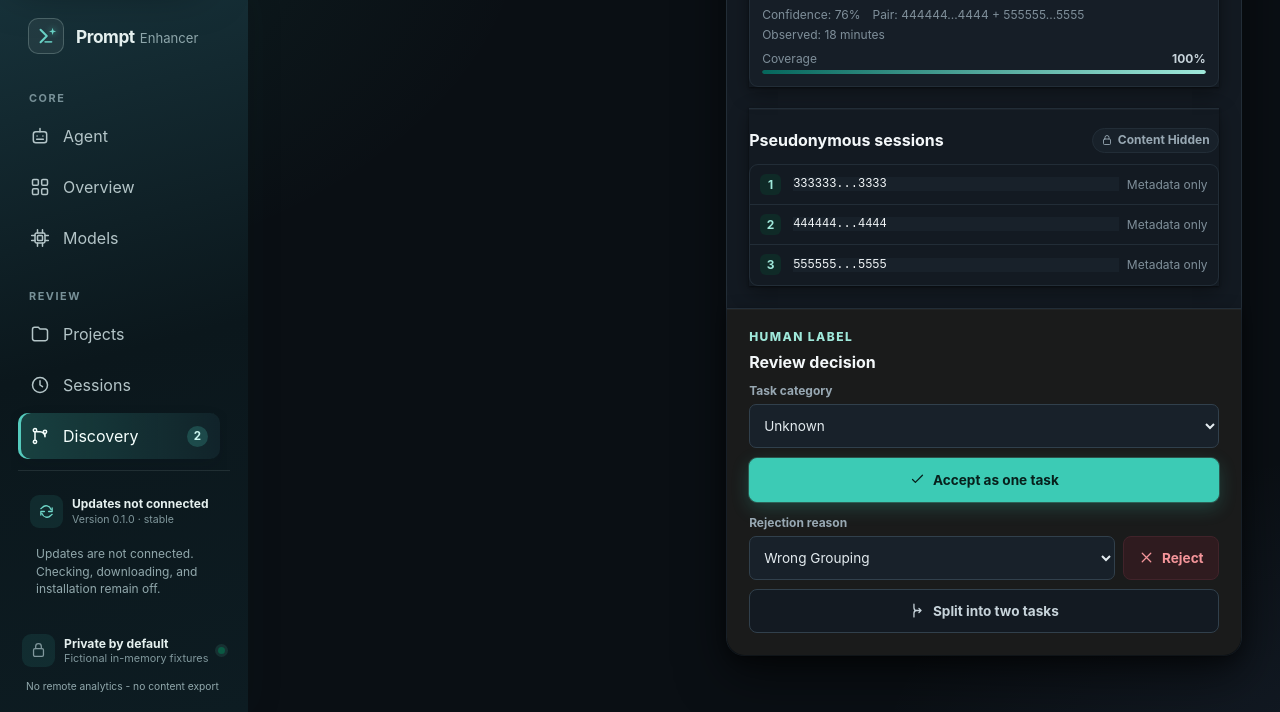
it: App discovery navigation › keeps the sidebar review count synchronized after a decision
(page scrolled)
Expected: the text named "2 candidates need review" is shown, [187, 425, 208, 446]
Click the button "Accept as one task": (984, 480) [749, 458, 1219, 502]
(page scrolled)
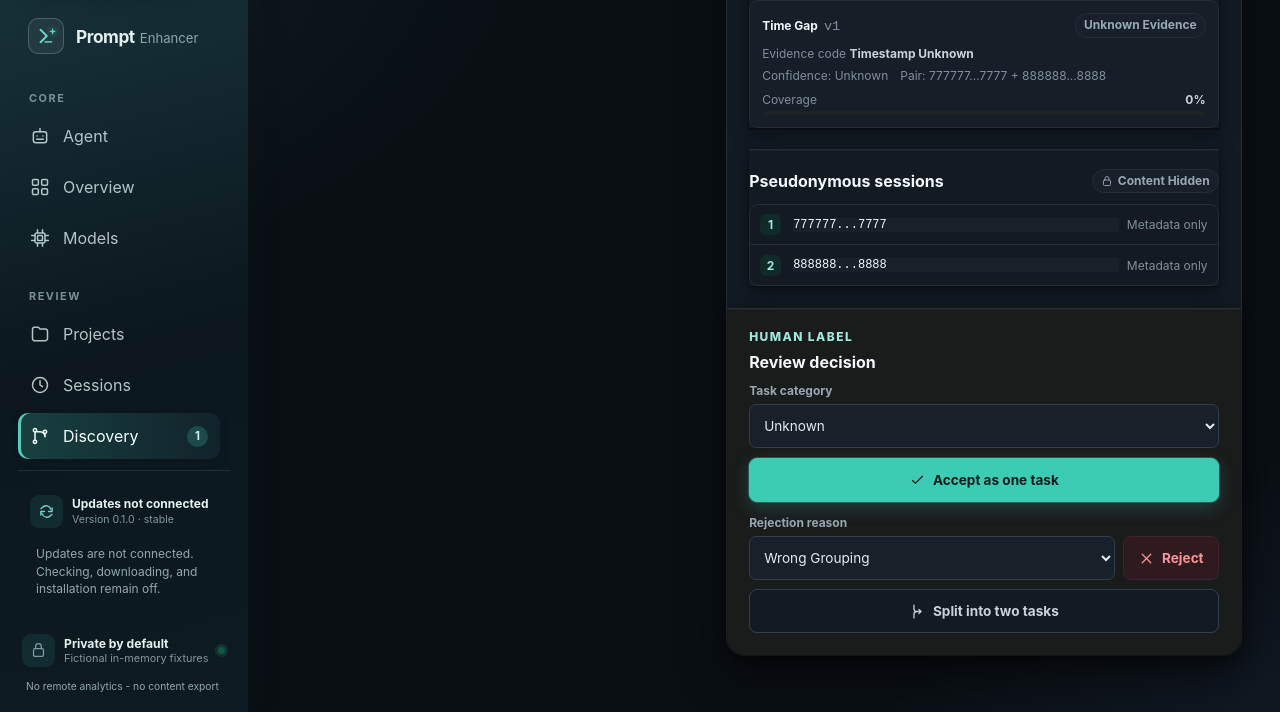
Now the text named "1 candidate needs review" is shown, box [187, 426, 208, 446]
